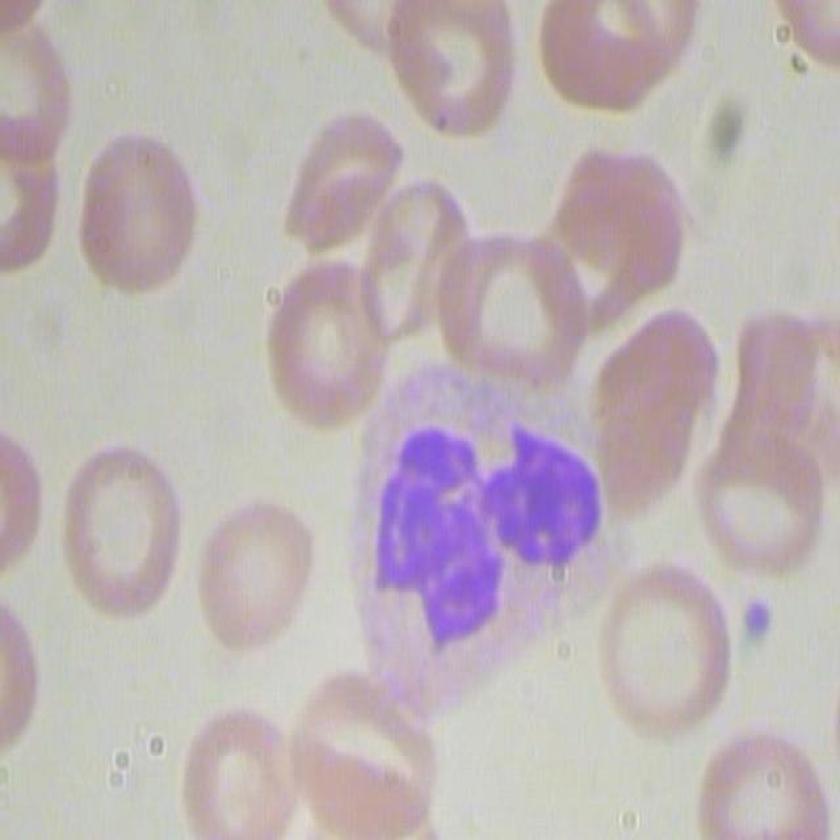neutrophil: (345, 362, 632, 727)
